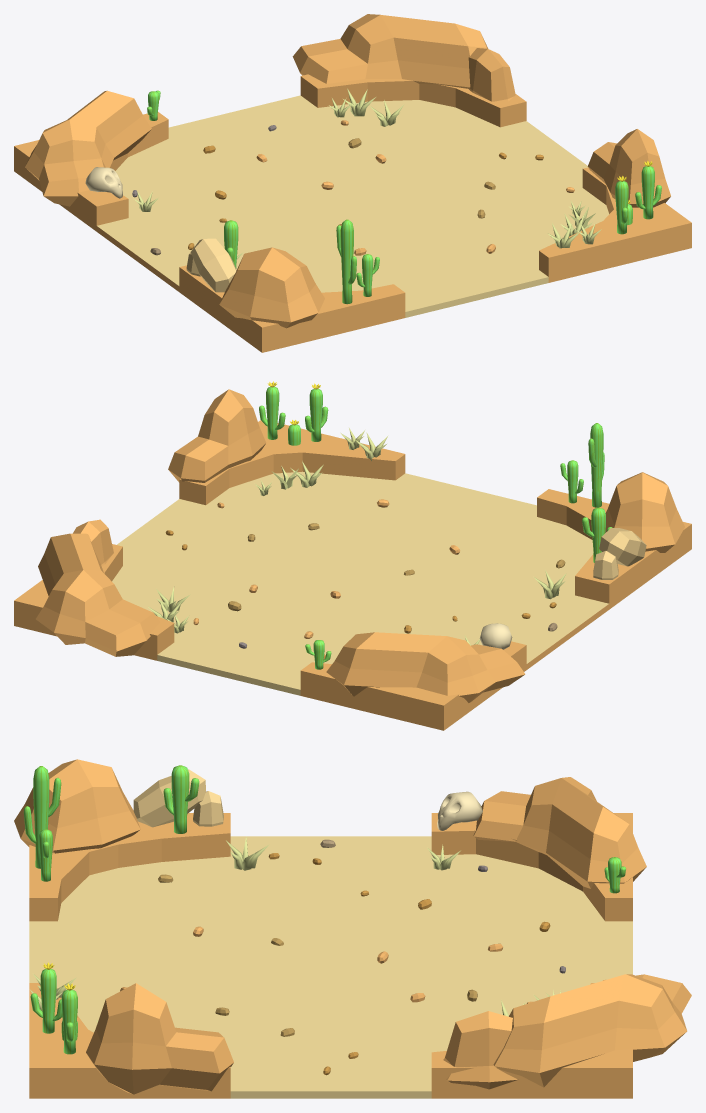
Rendered from desert level set - 4 Way.fbx.
3 views of the same model, one above another, from view 1: azimuth 30°, elevation 25°; view 2: azimuth 150°, elevation 25°; view 3: azimuth 270°, elevation 25° (orthographic). The views are drawn at different scales.
Parts seen in each view (by area): view 1: land_platform_001, Cube_008, Cube_004, Cube_005, Cube_009, Cube_006, Cube_007, CACTUS_002, CACTUS_001, skull_bone, CACTUS_005, CACTUS (+1 smaller); view 2: land_platform_001, Cube_004, Cube_008, Cube_009, Cube_005, Cube_007, CACTUS_002, Cube_006, CACTUS_001, CACTUS_005, CACTUS_006, skull_bone (+1 smaller); view 3: land_platform_001, Cube_008, Cube_004, Cube_009, Cube_005, Cube_006, Cube_007, CACTUS_002, CACTUS_006, CACTUS_005, skull_bone, CACTUS_001 (+3 smaller).
Part boxes in pixels (x1,y1,x2,y2): land_platform_001: (14, 74, 691, 352); Cube_008: (292, 14, 488, 88); Cube_004: (25, 90, 151, 206); Cube_005: (219, 247, 324, 328); Cube_009: (587, 129, 670, 207); Cube_006: (468, 48, 515, 101); Cube_007: (186, 238, 236, 292); CACTUS_002: (336, 219, 356, 304); CACTUS_001: (635, 161, 661, 219); skull_bone: (85, 167, 122, 198); CACTUS_005: (615, 176, 628, 234); CACTUS: (356, 254, 379, 296); land_platform_001: (14, 420, 691, 730); Cube_004: (326, 632, 525, 702); Cube_008: (36, 533, 160, 656); Cube_009: (168, 389, 266, 482); Cube_005: (605, 472, 684, 552); Cube_007: (593, 528, 646, 579); CACTUS_002: (588, 423, 604, 507); Cube_006: (73, 519, 113, 566); CACTUS_001: (259, 381, 285, 439); CACTUS_005: (305, 383, 328, 441); CACTUS_006: (582, 507, 612, 562); skull_bone: (479, 623, 512, 649); land_platform_001: (29, 813, 632, 1098); Cube_008: (493, 974, 691, 1087); Cube_004: (473, 777, 646, 888); Cube_009: (86, 983, 233, 1094); Cube_005: (14, 759, 140, 853); Cube_006: (443, 1011, 517, 1089); Cube_007: (133, 769, 223, 827); CACTUS_002: (23, 766, 61, 868); CACTUS_006: (163, 765, 199, 833); CACTUS_005: (30, 962, 62, 1033); skull_bone: (437, 791, 482, 830); CACTUS_001: (61, 983, 77, 1054).
Size of the model in its own units: 16.66 by 3.7 by 17.05.
